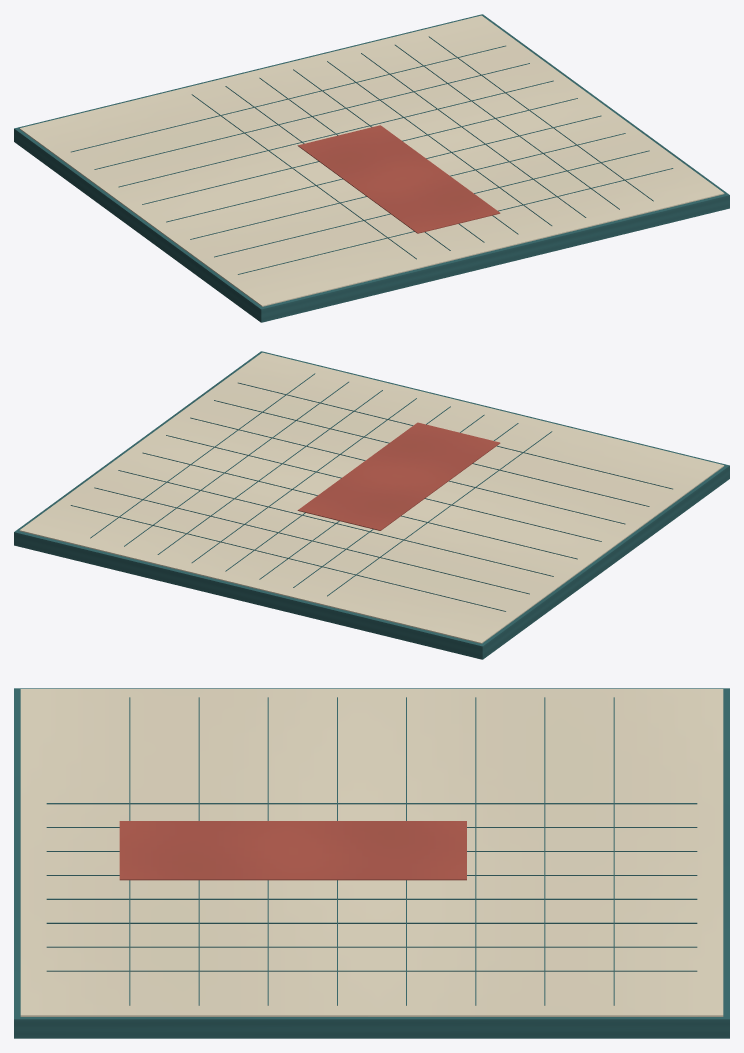
Rendered from atlas100-s031-a07.lod1.glb.
3 renders of one model, top to bottom at view 1: azimuth 30°, elevation 25°; view 2: azimuth 150°, elevation 25°; view 3: azimuth 270°, elevation 25°, orthographic. The views are drawn at different scales.
Parts seen in each view (by area): view 1: atlas100-s031-a07:part-001, atlas100-s031-a07:part-000, atlas100-s031-a07:part-021, atlas100-s031-a07:part-015, atlas100-s031-a07:part-013, atlas100-s031-a07:part-014, atlas100-s031-a07:part-017, atlas100-s031-a07:part-019, atlas100-s031-a07:part-016, atlas100-s031-a07:part-018, atlas100-s031-a07:part-020; view 2: atlas100-s031-a07:part-001, atlas100-s031-a07:part-000, atlas100-s031-a07:part-021, atlas100-s031-a07:part-013, atlas100-s031-a07:part-015, atlas100-s031-a07:part-014, atlas100-s031-a07:part-016, atlas100-s031-a07:part-018, atlas100-s031-a07:part-017, atlas100-s031-a07:part-019, atlas100-s031-a07:part-020; view 3: atlas100-s031-a07:part-001, atlas100-s031-a07:part-000, atlas100-s031-a07:part-021, atlas100-s031-a07:part-009, atlas100-s031-a07:part-011, atlas100-s031-a07:part-012, atlas100-s031-a07:part-005, atlas100-s031-a07:part-010, atlas100-s031-a07:part-015, atlas100-s031-a07:part-013, atlas100-s031-a07:part-014.
Boxes of the visible parts, left/top/right/bottom form: atlas100-s031-a07:part-001: left=19, top=15, right=724, bottom=306; atlas100-s031-a07:part-000: left=14, top=14, right=729, bottom=322; atlas100-s031-a07:part-021: left=297, top=125, right=500, bottom=233; atlas100-s031-a07:part-015: left=118, top=80, right=553, bottom=187; atlas100-s031-a07:part-013: left=71, top=45, right=505, bottom=152; atlas100-s031-a07:part-014: left=94, top=63, right=529, bottom=169; atlas100-s031-a07:part-017: left=166, top=115, right=601, bottom=222; atlas100-s031-a07:part-019: left=214, top=150, right=649, bottom=257; atlas100-s031-a07:part-016: left=142, top=98, right=577, bottom=204; atlas100-s031-a07:part-018: left=190, top=133, right=625, bottom=239; atlas100-s031-a07:part-020: left=238, top=168, right=673, bottom=274; atlas100-s031-a07:part-001: left=19, top=352, right=724, bottom=643; atlas100-s031-a07:part-000: left=14, top=351, right=729, bottom=659; atlas100-s031-a07:part-021: left=297, top=422, right=500, bottom=530; atlas100-s031-a07:part-013: left=70, top=505, right=505, bottom=611; atlas100-s031-a07:part-015: left=118, top=470, right=553, bottom=576; atlas100-s031-a07:part-014: left=94, top=487, right=529, bottom=594; atlas100-s031-a07:part-016: left=142, top=452, right=577, bottom=559; atlas100-s031-a07:part-018: left=190, top=417, right=625, bottom=524; atlas100-s031-a07:part-017: left=166, top=435, right=601, bottom=541; atlas100-s031-a07:part-019: left=214, top=400, right=649, bottom=506; atlas100-s031-a07:part-020: left=238, top=382, right=672, bottom=489; atlas100-s031-a07:part-001: left=20, top=689, right=723, bottom=1016; atlas100-s031-a07:part-000: left=14, top=688, right=729, bottom=1038; atlas100-s031-a07:part-021: left=119, top=821, right=466, bottom=880; atlas100-s031-a07:part-009: left=46, top=898, right=697, bottom=899; atlas100-s031-a07:part-011: left=46, top=946, right=697, bottom=947; atlas100-s031-a07:part-012: left=46, top=970, right=697, bottom=971; atlas100-s031-a07:part-005: left=46, top=803, right=697, bottom=804; atlas100-s031-a07:part-010: left=46, top=922, right=697, bottom=923; atlas100-s031-a07:part-015: left=475, top=697, right=476, bottom=1005; atlas100-s031-a07:part-013: left=613, top=697, right=614, bottom=1005; atlas100-s031-a07:part-014: left=544, top=697, right=545, bottom=1005.
Size of the model in its own units: 12.46 by 0.404 by 11.39.
3 materials, 3 textured.
